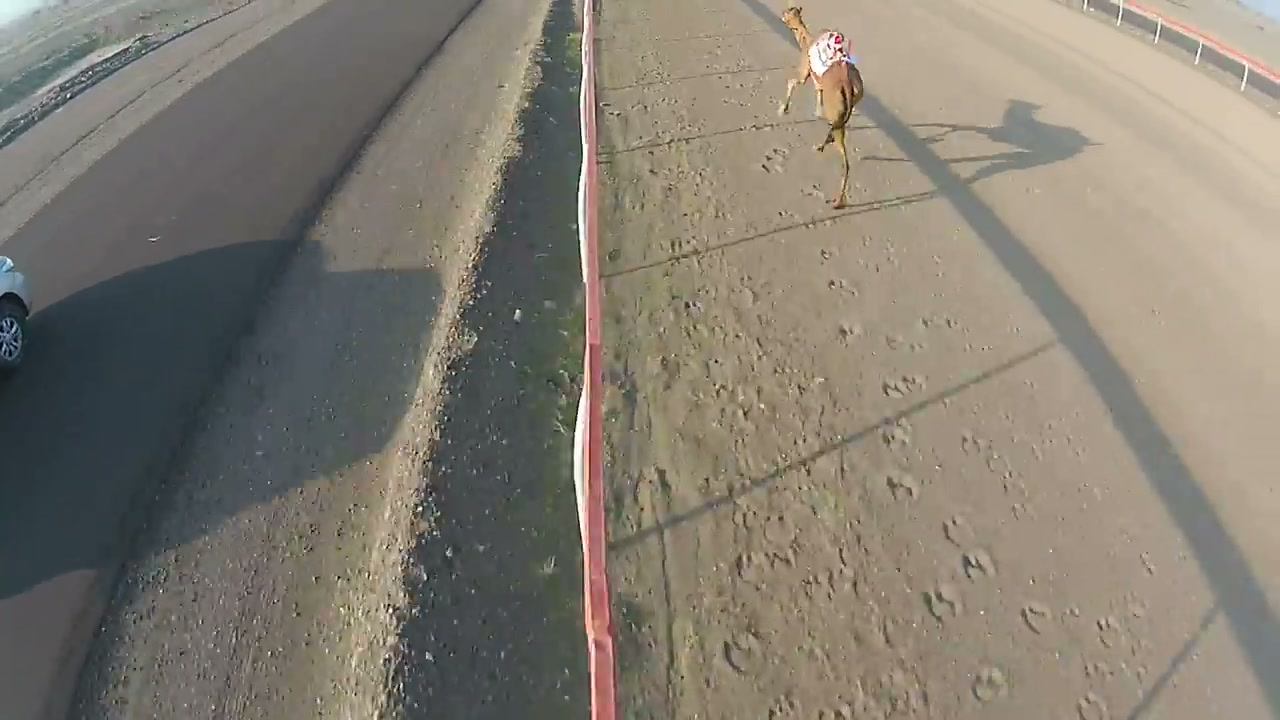animal_foot_print: (818, 661, 928, 719), (861, 663, 926, 717), (724, 630, 767, 676), (925, 582, 962, 621), (972, 666, 1008, 702), (735, 551, 770, 584), (885, 469, 919, 501), (943, 514, 974, 548), (882, 374, 925, 398), (880, 418, 912, 450), (962, 547, 995, 578), (1021, 601, 1052, 633), (766, 692, 802, 719), (1077, 691, 1109, 719), (1096, 615, 1123, 647), (960, 431, 989, 454), (1084, 660, 1115, 681), (837, 321, 863, 343)
